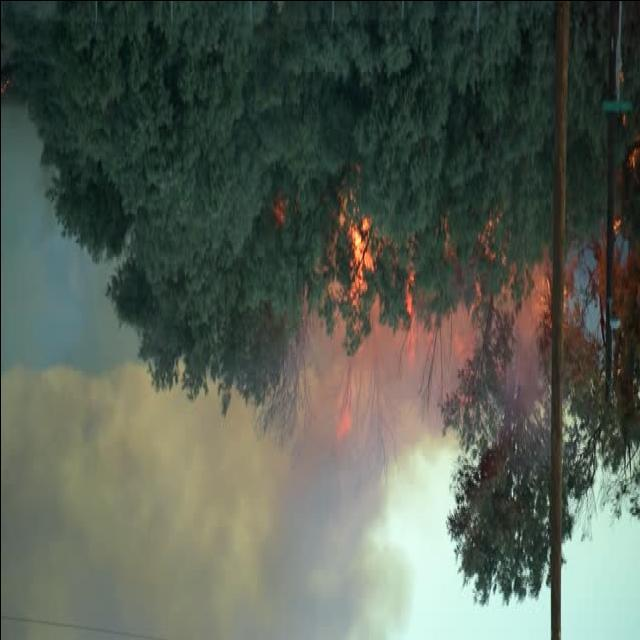Fire: (313, 215, 551, 437)
